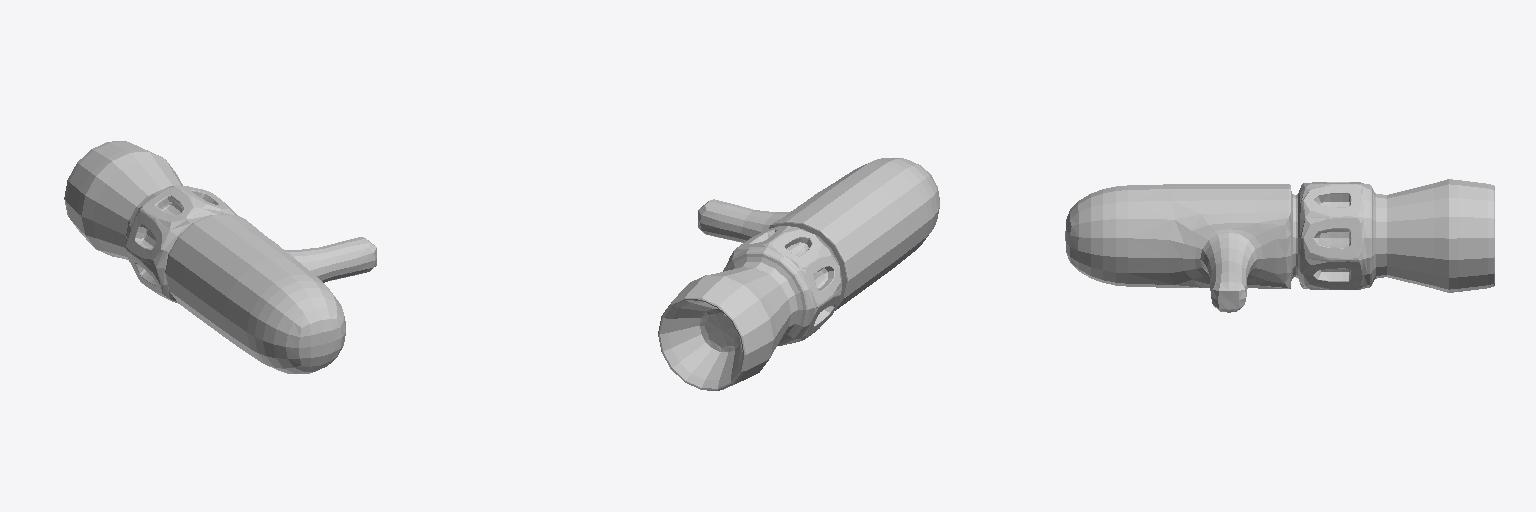
Rendered from Parte2.obj.
3 views of the same model, side by side, from view 1: azimuth 30°, elevation 25°; view 2: azimuth 150°, elevation 25°; view 3: azimuth 270°, elevation 25° (orthographic).
Visible parts, largest first — view 1: Turbinas.001_Cylinder.001; view 2: Turbinas.001_Cylinder.001; view 3: Turbinas.001_Cylinder.001.
Part boxes in pixels (left/top/right/bottom): Turbinas.001_Cylinder.001: left=64, top=141, right=376, bottom=373; Turbinas.001_Cylinder.001: left=658, top=158, right=939, bottom=390; Turbinas.001_Cylinder.001: left=1065, top=179, right=1494, bottom=312.
Size of the model in its own units: 1.98 by 1.08 by 4.06.